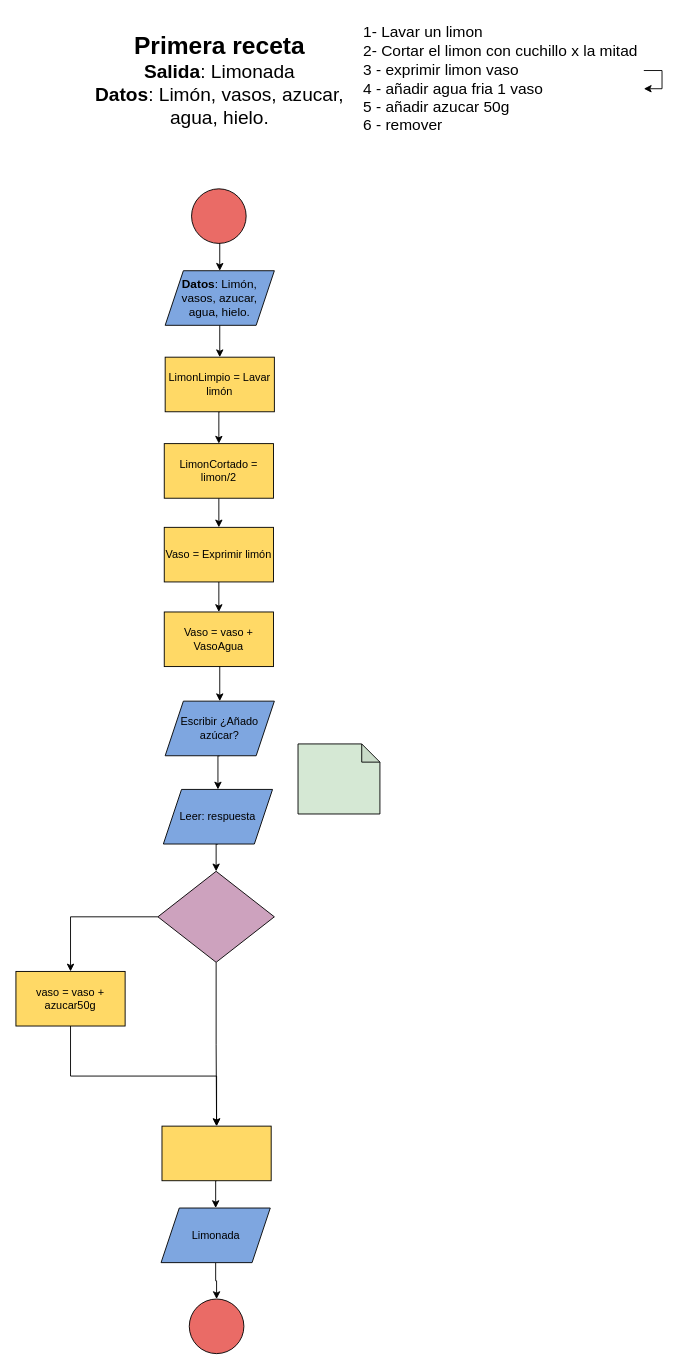
The diagram is 685 pixels wide and 1370 high, and some of its shapes have lost their labels. Here are the shapes that lost their labels. From the top down, the box of each, then its label:
(191, 188, 246, 243): Inicio
(297, 743, 380, 814): Recibe información del usuario
(157, 870, 274, 962): RespuestaAzucar
(161, 1125, 271, 1181): Limonada = removerVaso
(188, 1298, 244, 1354): Final
